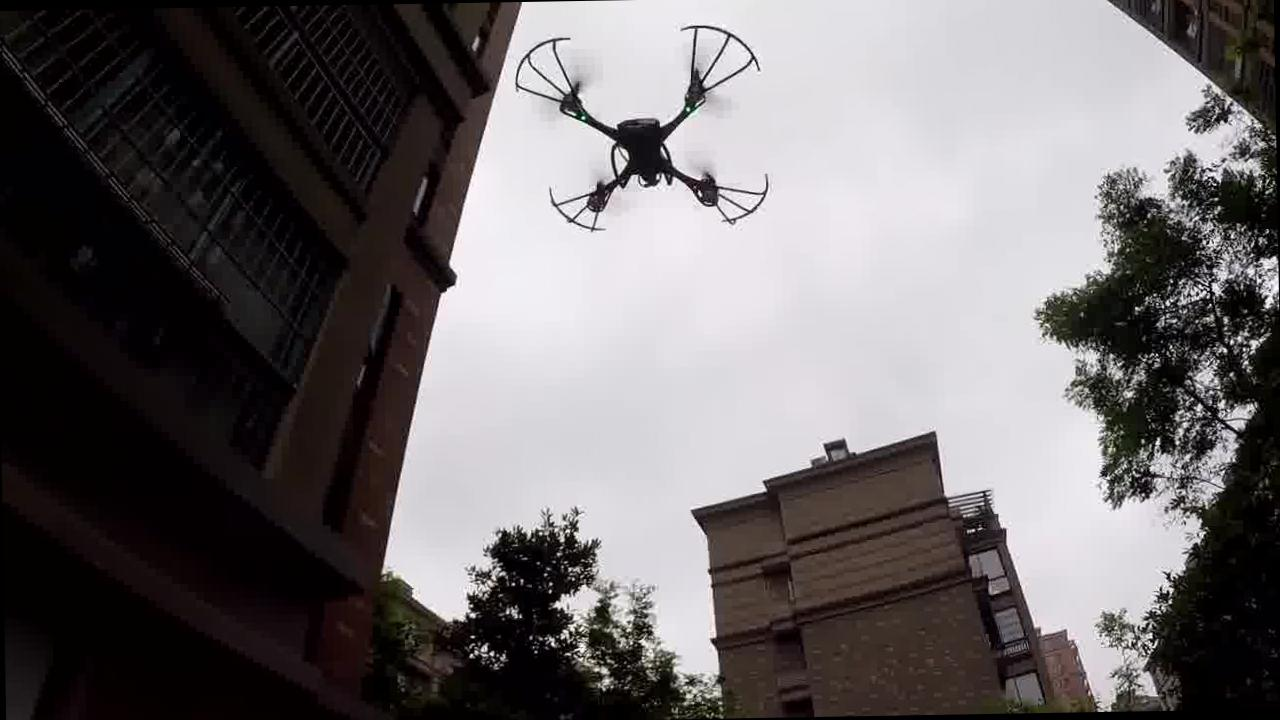drone: (508, 11, 779, 252)
